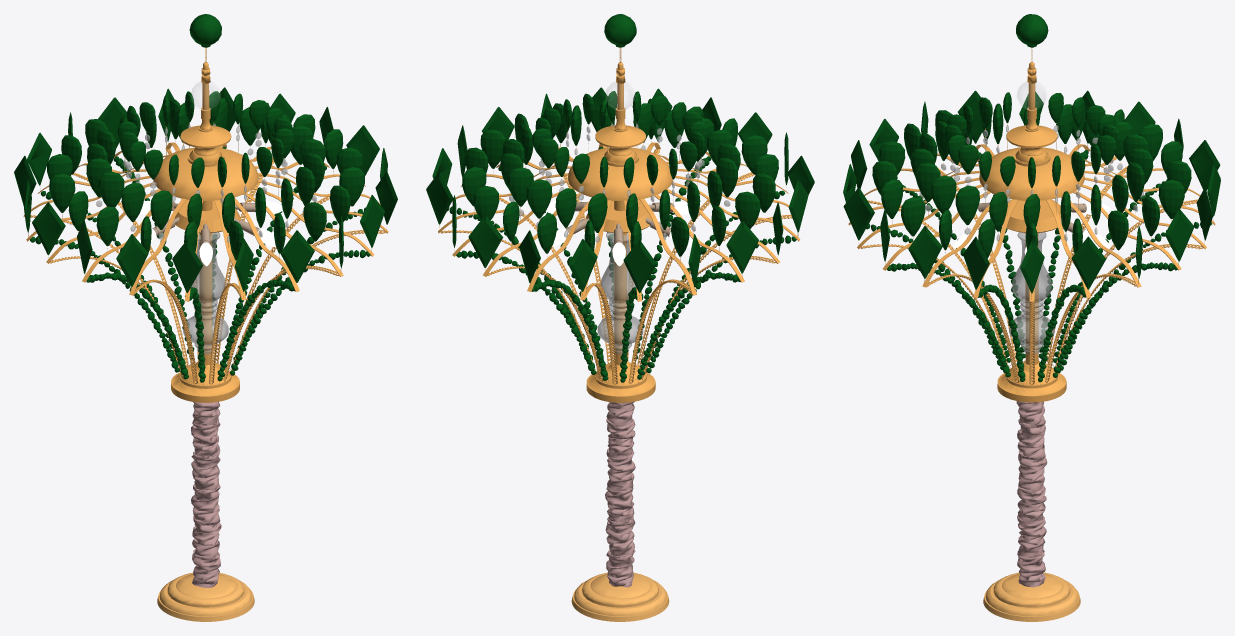
File: obj_astro_delux_68_0079c5.glb
3 renders of one model, left to right at view 1: azimuth 30°, elevation 25°; view 2: azimuth 150°, elevation 25°; view 3: azimuth 270°, elevation 25°, orthographic.
Visible parts, largest first — view 1: obj_astro_delux_68_0079c5; view 2: obj_astro_delux_68_0079c5; view 3: obj_astro_delux_68_0079c5.
Part boxes in pixels (x1,y1,x2,y2): obj_astro_delux_68_0079c5: (14,14,397,621); obj_astro_delux_68_0079c5: (426,14,814,621); obj_astro_delux_68_0079c5: (843,14,1220,621).
Bounding box in the file's own units: 0.4804 × 0.8 × 0.4674.
